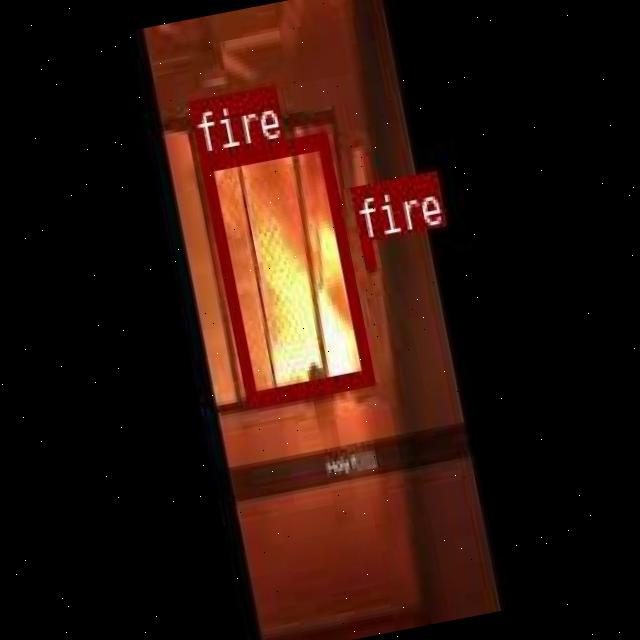fire: (197, 128, 373, 406), (358, 240, 374, 267)
